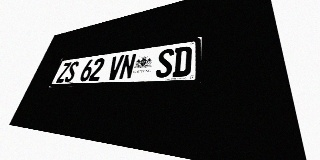2: (88, 57, 106, 81)
6: (78, 59, 96, 82)
D: (172, 46, 192, 77)
N: (118, 53, 137, 80)
S: (155, 48, 174, 78), (63, 61, 80, 82)
V: (106, 55, 124, 80)
Z: (56, 62, 72, 83)
